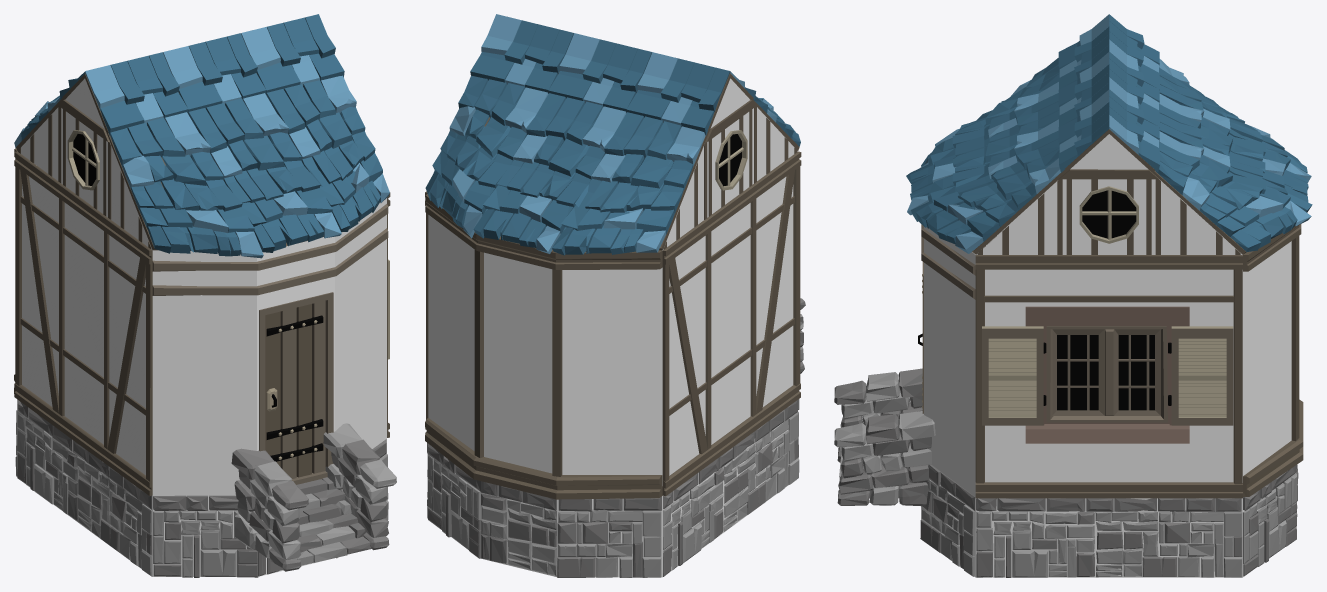
Rendered from house_15_full.fbx.
3 views of the same model, side by side, from view 1: azimuth 30°, elevation 25°; view 2: azimuth 150°, elevation 25°; view 3: azimuth 270°, elevation 25° (orthographic).
Parts seen in each view (by area): view 1: DOOR_06_Balkon_2, ROOF_base_round_2, WALL_02_2, STSAIRS_07_2, FOUNDATION_02_24, FOUNDATION_01_4, ROOF_base_small_4, ROOF_base_small_6, ROOF_base_small_5, ROOF_Window_round_3, ROOF_trinagle_right_wood_3, ROOF_trinagle_left_wood_3 (+2 smaller); view 2: WINDOW_01_Balkon_2, ROOF_base_round_3, WALL_02_2, FOUNDATION_01_5, FOUNDATION_02_24, ROOF_base_small_9, ROOF_base_small_8, ROOF_base_small_7, ROOF_Window_round_3, ROOF_trinagle_left_wood_3, ROOF_trinagle_right_wood_3, ROOF_triangles_up_wood_4 (+2 smaller); view 3: WINDOW_06_2, FOUNDATION_02_25, ROOF_base_round_2, ROOF_base_round_3, WINDOW_01_Balkon_2, DOOR_06_Balkon_2, STSAIRS_07_2, ROOF_Window_round_2, FOUNDATION_01_4, FOUNDATION_01_5, ROOF_trinagle_right_wood_2, ROOF_trinagle_left_wood_2 (+7 smaller).
Part boxes in pixels (<box>): DOOR_06_Balkon_2: <box>152,198,388,495</box>; ROOF_base_round_2: <box>107,75,389,258</box>; WALL_02_2: <box>14,151,152,495</box>; STSAIRS_07_2: <box>231,423,396,571</box>; FOUNDATION_02_24: <box>17,399,152,576</box>; FOUNDATION_01_4: <box>152,438,388,577</box>; ROOF_base_small_4: <box>85,52,188,135</box>; ROOF_base_small_6: <box>241,14,344,95</box>; ROOF_base_small_5: <box>163,33,266,114</box>; ROOF_Window_round_3: <box>62,109,107,216</box>; ROOF_trinagle_right_wood_3: <box>107,142,152,249</box>; ROOF_trinagle_left_wood_3: <box>18,106,62,183</box>; WINDOW_01_Balkon_2: <box>425,194,662,499</box>; ROOF_base_round_3: <box>425,75,707,255</box>; WALL_02_2: <box>662,151,801,496</box>; FOUNDATION_01_5: <box>427,443,662,577</box>; FOUNDATION_02_24: <box>662,400,799,576</box>; ROOF_base_small_9: <box>626,52,730,135</box>; ROOF_base_small_8: <box>470,14,573,93</box>; ROOF_base_small_7: <box>548,33,651,112</box>; ROOF_Window_round_3: <box>708,109,752,216</box>; ROOF_trinagle_left_wood_3: <box>662,142,707,250</box>; ROOF_trinagle_right_wood_3: <box>753,106,797,183</box>; ROOF_triangles_up_wood_4: <box>705,78,756,142</box>; WINDOW_06_2: <box>975,255,1242,498</box>; FOUNDATION_02_25: <box>975,498,1242,577</box>; ROOF_base_round_2: <box>906,58,1064,254</box>; ROOF_base_round_3: <box>1153,59,1312,254</box>; WINDOW_01_Balkon_2: <box>1242,224,1303,496</box>; DOOR_06_Balkon_2: <box>918,224,975,496</box>; STSAIRS_07_2: <box>834,368,935,506</box>; ROOF_Window_round_2: <box>1064,179,1153,254</box>; FOUNDATION_01_4: <box>920,464,984,577</box>; FOUNDATION_01_5: <box>1242,464,1298,577</box>; ROOF_trinagle_right_wood_2: <box>1153,179,1242,254</box>; ROOF_trinagle_left_wood_2: <box>976,179,1064,254</box>.
Bounding box in the file's own units: 322 × 559 × 537.
